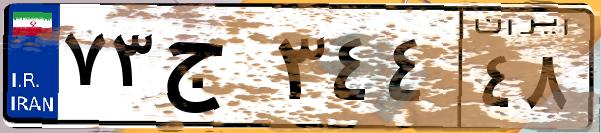3: (270, 28, 330, 110), (110, 28, 158, 98)
4: (385, 28, 445, 110), (330, 28, 385, 110), (475, 38, 525, 113)
7: (57, 26, 110, 100)
8: (525, 38, 570, 115)
ج: (158, 20, 270, 120)
